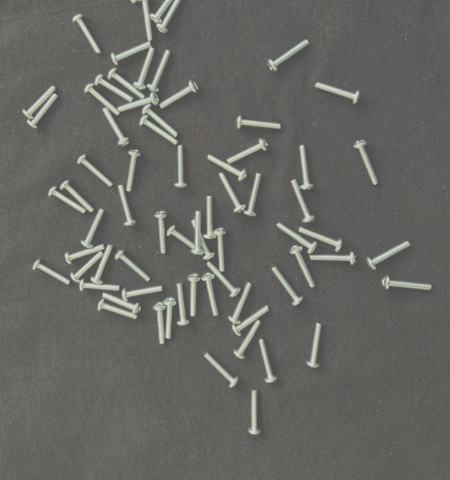longscrew: (267, 39, 311, 75), (204, 352, 241, 390), (141, 103, 180, 139), (367, 241, 412, 272), (352, 140, 381, 188), (276, 222, 318, 255), (205, 261, 242, 298), (76, 153, 116, 187), (106, 67, 147, 100), (272, 266, 305, 307), (59, 179, 96, 215), (159, 80, 200, 112), (82, 83, 121, 116), (27, 92, 60, 131), (232, 305, 271, 338), (226, 138, 270, 167), (72, 14, 103, 55), (298, 226, 345, 253), (93, 73, 135, 103), (22, 85, 58, 120), (290, 179, 318, 224), (315, 81, 363, 107), (289, 245, 317, 289), (139, 115, 180, 145), (115, 249, 152, 282), (218, 172, 247, 214), (101, 107, 131, 147), (47, 185, 87, 215), (207, 154, 249, 182), (81, 207, 109, 249), (70, 251, 106, 283), (147, 49, 173, 93), (234, 320, 262, 360), (111, 40, 153, 66), (190, 219, 216, 261), (228, 282, 254, 324), (133, 46, 157, 91), (31, 259, 71, 286), (156, 0, 186, 34), (117, 92, 161, 115), (235, 113, 283, 134), (243, 173, 265, 218), (259, 338, 280, 385), (90, 244, 114, 285), (117, 184, 139, 228), (97, 298, 139, 321), (102, 292, 142, 315), (64, 243, 105, 265), (201, 272, 221, 317), (298, 144, 317, 191), (305, 322, 324, 369), (381, 275, 433, 292), (166, 224, 198, 251), (124, 149, 143, 193), (149, 0, 183, 24), (247, 388, 264, 436), (202, 195, 220, 240), (136, 0, 155, 42), (309, 250, 358, 266), (122, 284, 164, 302), (173, 144, 189, 189), (154, 210, 170, 255), (152, 301, 168, 345), (177, 281, 192, 327), (78, 278, 121, 294), (187, 273, 202, 317), (215, 228, 230, 271), (163, 297, 178, 340), (191, 211, 205, 256), (130, 0, 169, 5)
